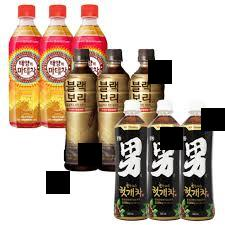heotgaecha: (115, 99, 148, 222), (181, 99, 214, 221), (147, 99, 180, 221)
